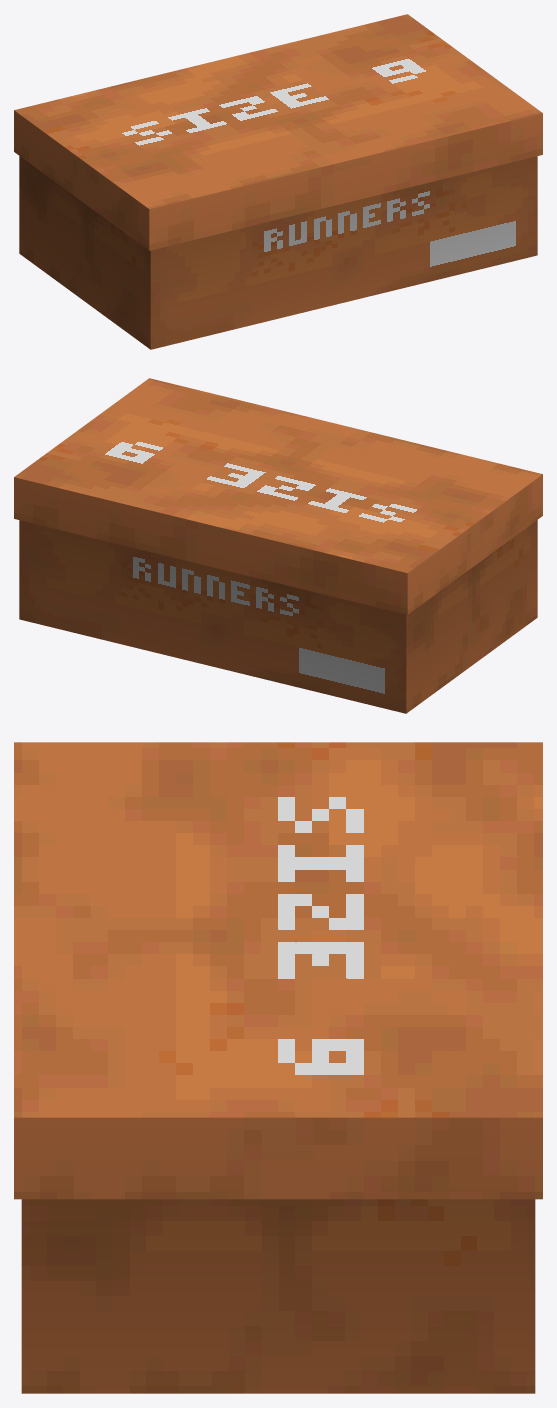
File: shoebox.glb
The picture shows the model from 3 angles, top to bottom: view 1: azimuth 30°, elevation 25°; view 2: azimuth 150°, elevation 25°; view 3: azimuth 270°, elevation 25°; orthographic projection. The views are drawn at different scales.
Parts seen in each view (by area): view 1: shoebox_lid, shoebox; view 2: shoebox_lid, shoebox; view 3: shoebox_lid, shoebox.
Part boxes in pixels (box(x1,y1,x2,y2)): shoebox_lid: box(14, 14, 542, 250); shoebox: box(19, 156, 537, 349); shoebox_lid: box(14, 378, 542, 614); shoebox: box(19, 520, 537, 713); shoebox_lid: box(14, 742, 542, 1199); shoebox: box(21, 1199, 535, 1393).
Size of the model in its own units: 0.346 by 0.12 by 0.206.
Materials: 2 (2 with a texture image).
